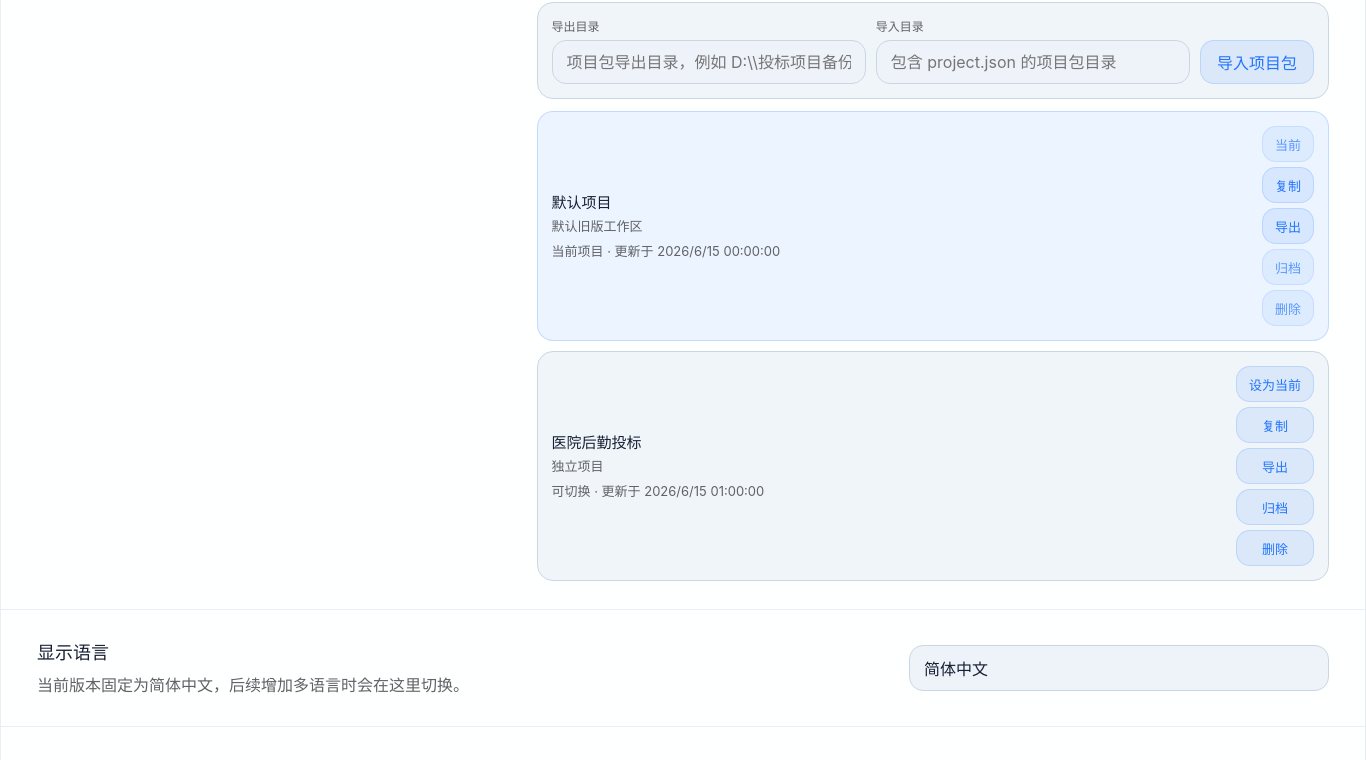
it: SettingsPage appearance settings › confirms project switch after checking active tasks
(page scrolled)
Expected: the text "医院后勤投标" is shown, [552,433,642,452]
Click the button "设为当前" at [1275, 384], box [1236,366,1314,402]
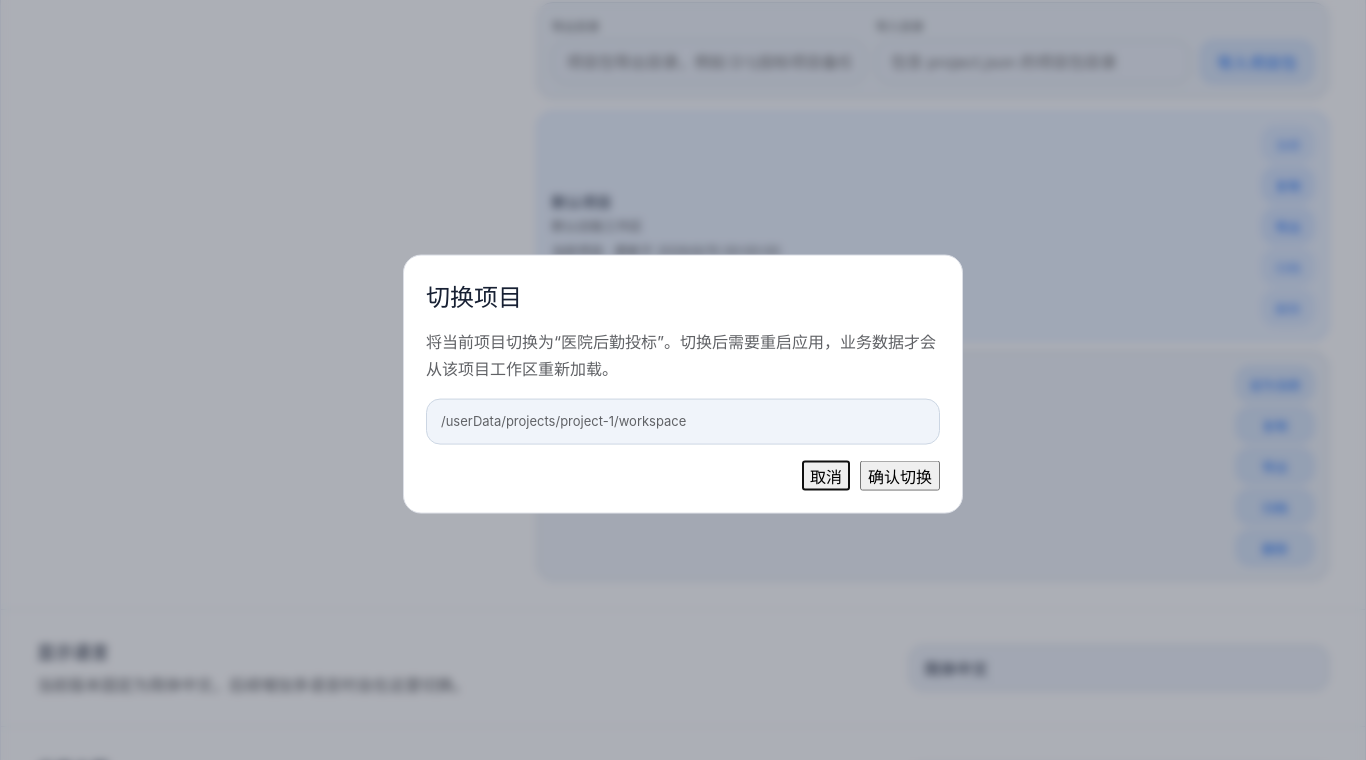
Now the dialog shows "切换项目", box [426,283,522,312]
Click the button "确认切换" at [900, 475], box [860,460,940,490]
(page scrolled)
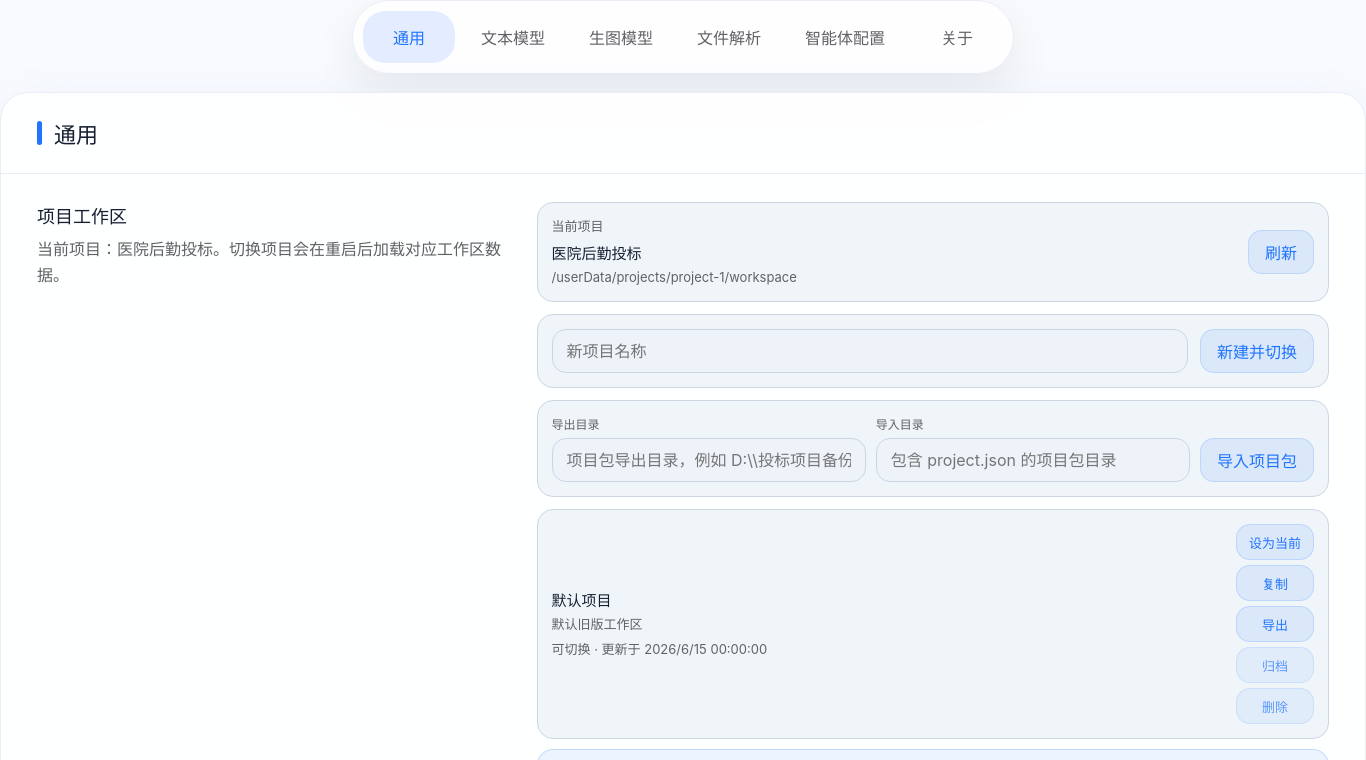
Now the text "当前项目：医院后勤投标。切换项目会在重启后加载对应工作区数据。" is shown, box [37,236,512,289]
